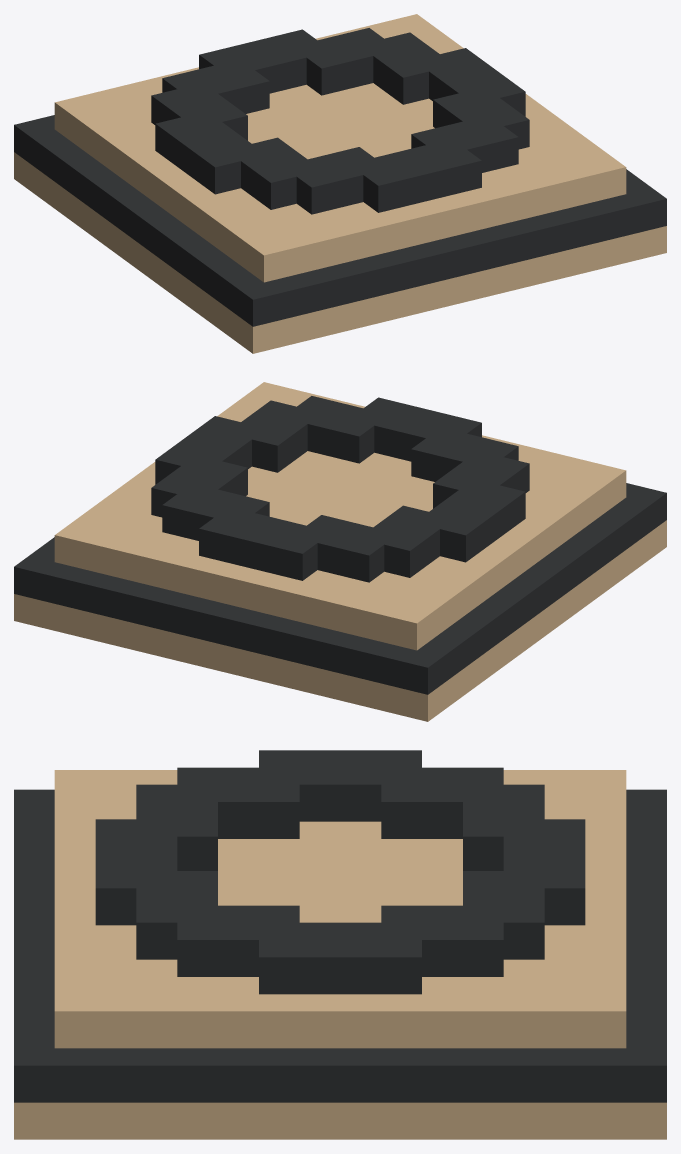
Rendered from o-v1-tan-black.gltf.
The picture shows the model from 3 angles, top to bottom: view 1: azimuth 30°, elevation 25°; view 2: azimuth 150°, elevation 25°; view 3: azimuth 270°, elevation 25°; orthographic projection. The views are drawn at different scales.
Parts seen in each view (by area): view 1: Untitled; view 2: Untitled; view 3: Untitled.
Part boxes in pixels (box(x1,y1,x2,y2)): Untitled: box(14, 14, 666, 353); Untitled: box(14, 382, 666, 721); Untitled: box(14, 750, 666, 1139).
Bounding box in the file's own units: 1.6 × 0.4 × 1.6.
Materials: 1 (1 with a texture image).
